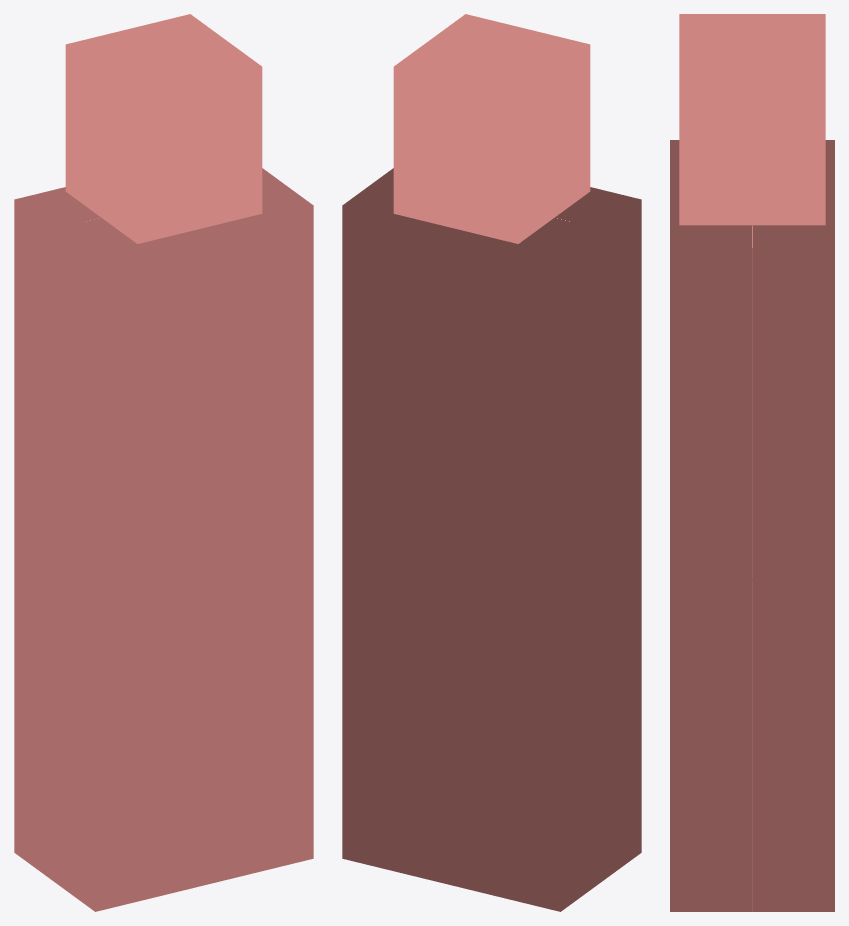
3 views of the same model, side by side, from view 1: azimuth 30°, elevation 25°; view 2: azimuth 150°, elevation 25°; view 3: azimuth 270°, elevation 25° (orthographic).
Visible parts, largest first — view 1: Root; view 2: Root; view 3: Root.
Boxes of the visible parts, bbox=[...] form: Root: bbox=[14, 14, 313, 911]; Root: bbox=[342, 14, 641, 911]; Root: bbox=[670, 14, 834, 911].
Bounding box in the file's own units: 0.56 × 1.96 × 0.36.
